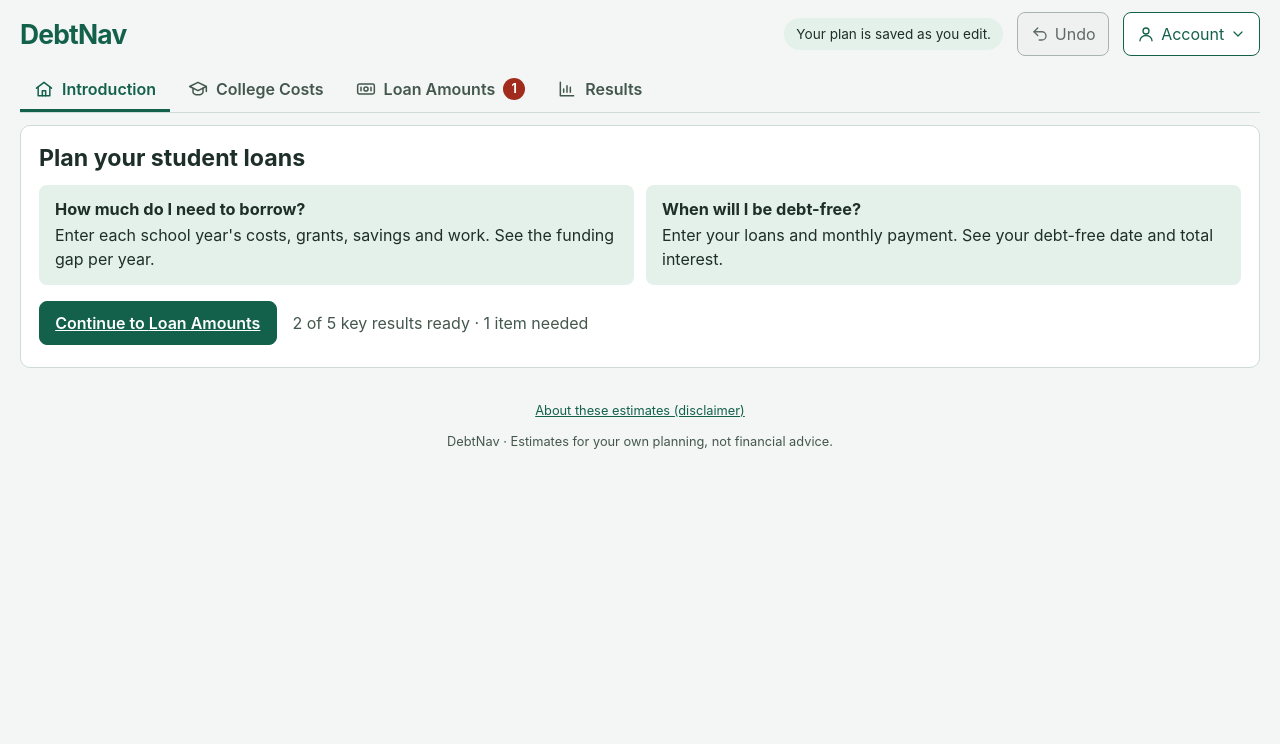
Test: review fixes › M1: when repayment cannot be projected, gaps stay visible and the loan date is highlighted
The width and height of the screenshot is (1280, 744).
What coordinates should you click on to do the following:
click the link "Results"
I would click on:
 (600, 88)
Its box is top-left (557, 78), bottom-right (642, 98).
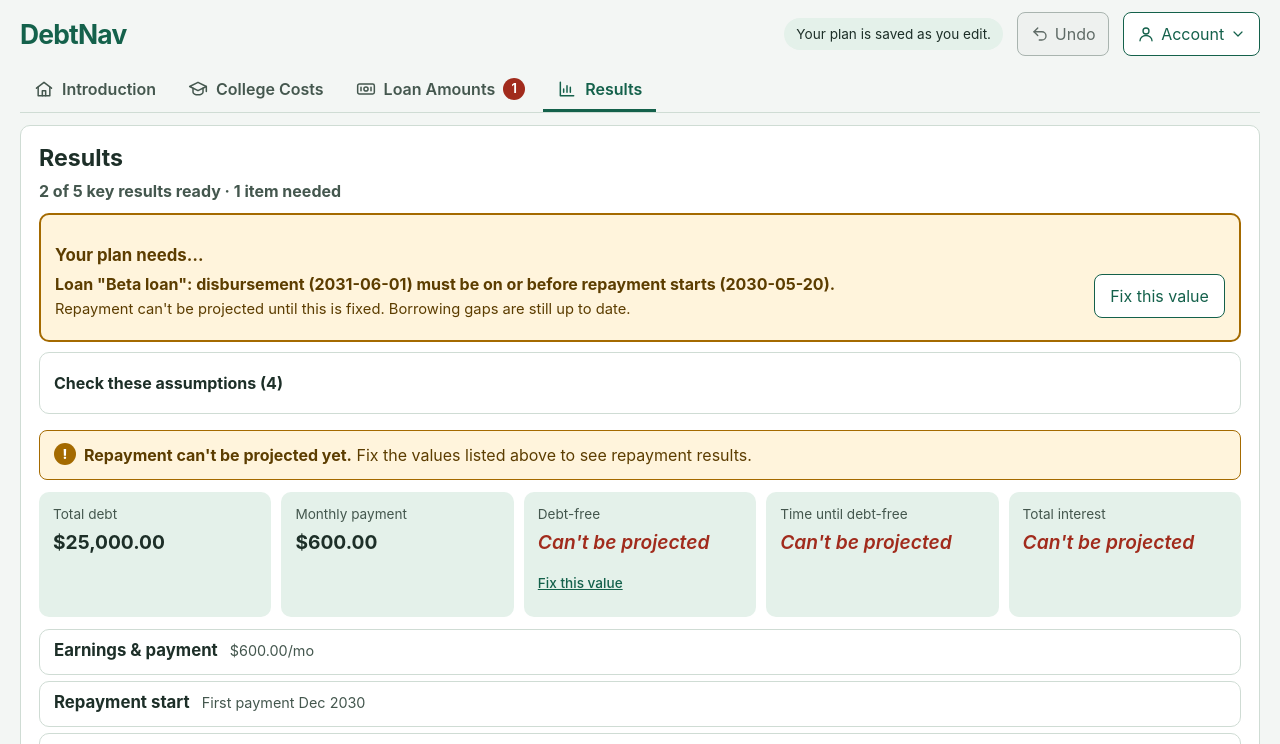
Expected: the text with test id "headline-debt-free" reads "Can't be projected", top-left (538, 530), bottom-right (709, 554)
What coordinates should you click on to do the following:
click the link "College Costs"
I would click on:
 (256, 88)
Its box is top-left (188, 78), bottom-right (324, 98).
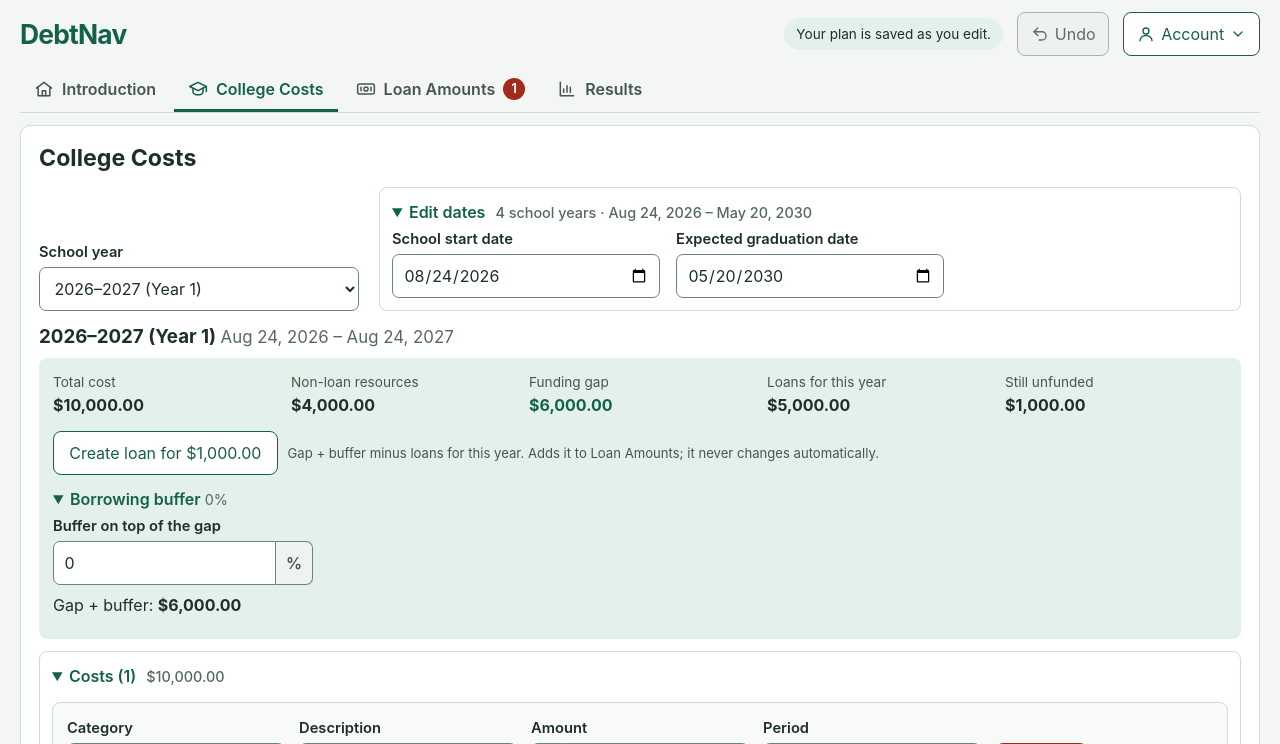
Expected: the 1st text "$6,000.00" is shown, top-left (529, 395), bottom-right (613, 415)
What coordinates should you click on to do the following:
click the link "Loan Amounts 1"
I would click on:
 (440, 88)
Its box is top-left (356, 78), bottom-right (525, 100).
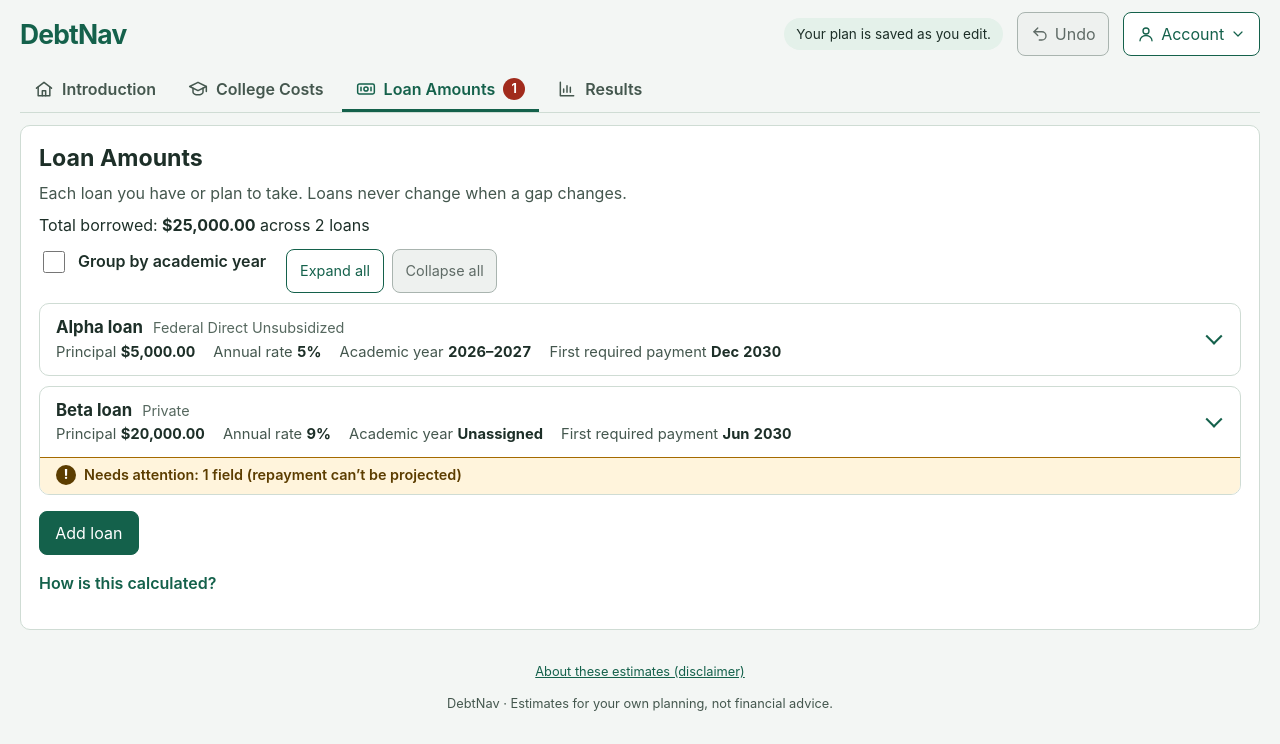
What coordinates should you click on to do the following:
click the button that starts with "Beta loan"
I would click on:
 (94, 410)
Its box is top-left (40, 386), bottom-right (1240, 457).
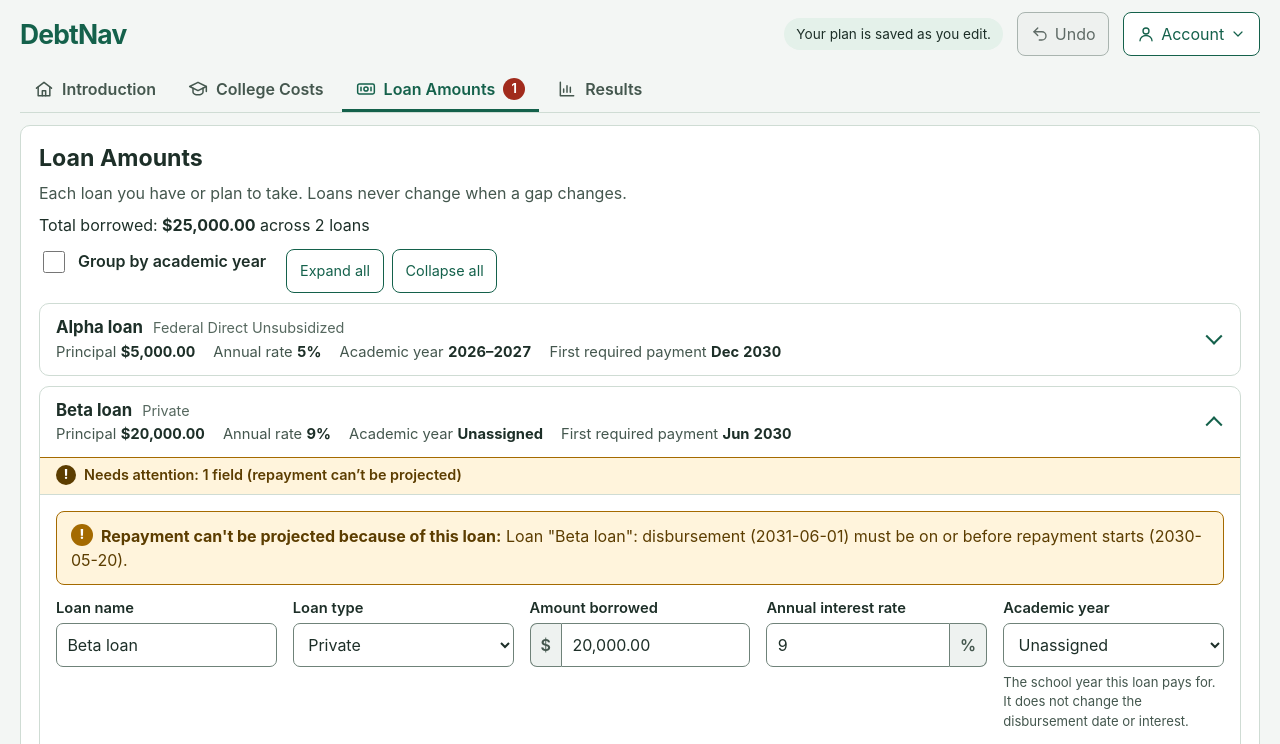
Expected: the 3rd message shows "because of this loan", top-left (101, 526), bottom-right (501, 546)
What coordinates should you click on to do the following:
click the link "Results"
I would click on:
 (600, 88)
Its box is top-left (557, 78), bottom-right (642, 98).
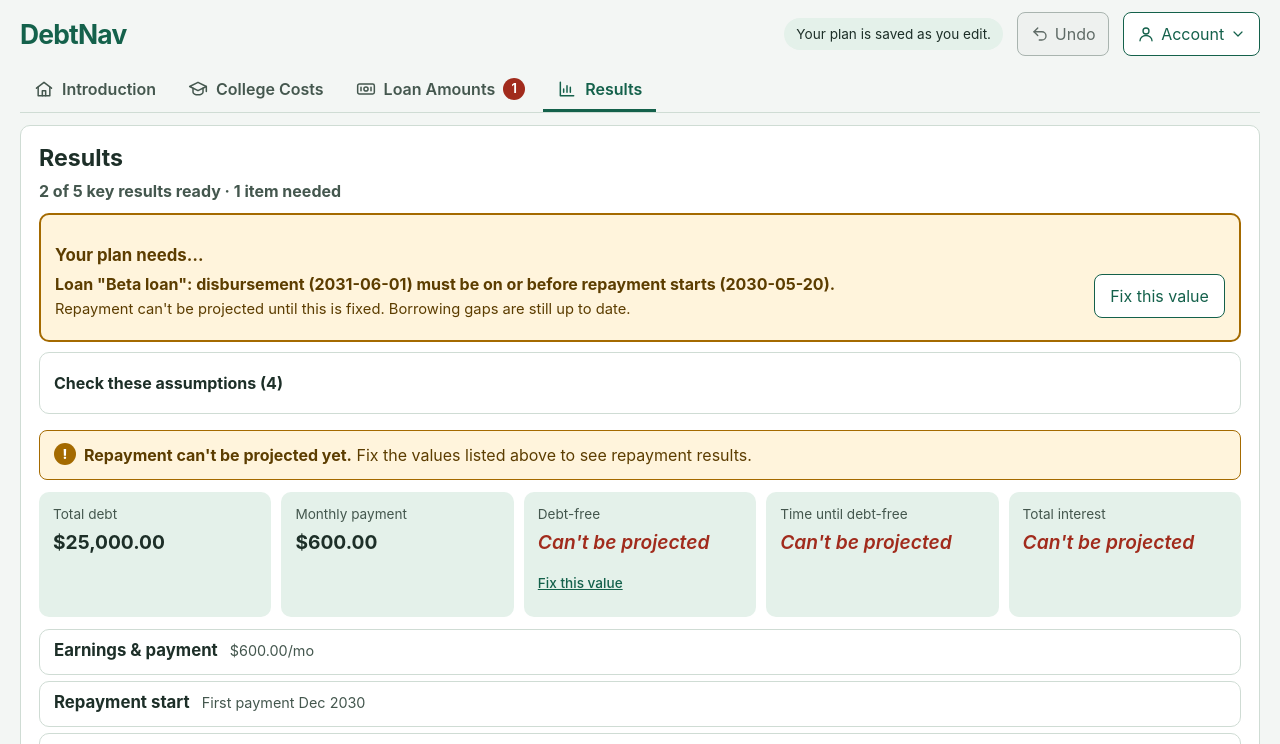
Expected: the element with id "results-heading" shows "Repayment can't be projected yet", top-left (84, 445), bottom-right (352, 465)
Expected: the 1st button "Fix this value" is shown, top-left (1094, 274), bottom-right (1225, 318)
